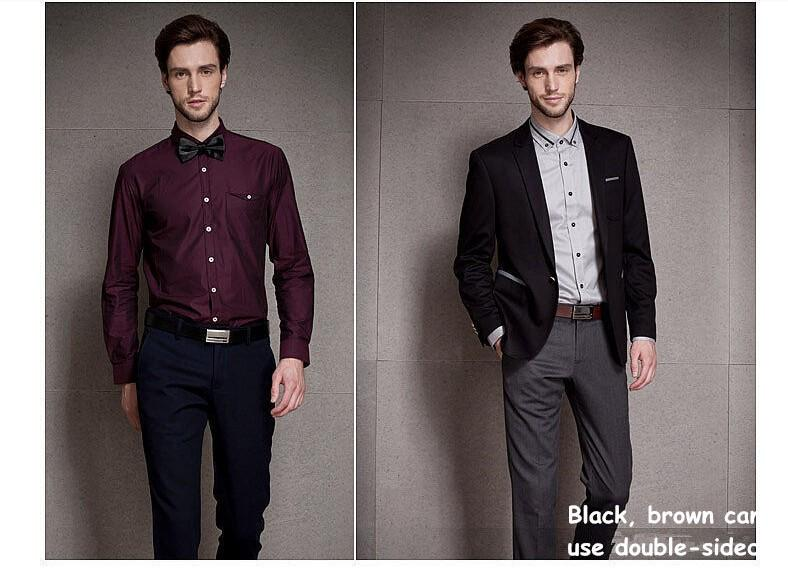F_M_suit jacket: (451, 127, 672, 343)
F_belt: (139, 311, 272, 350), (549, 301, 616, 321)
F_dress pants: (123, 353, 293, 551), (505, 324, 636, 547)
F_shirt: (109, 124, 319, 364)
